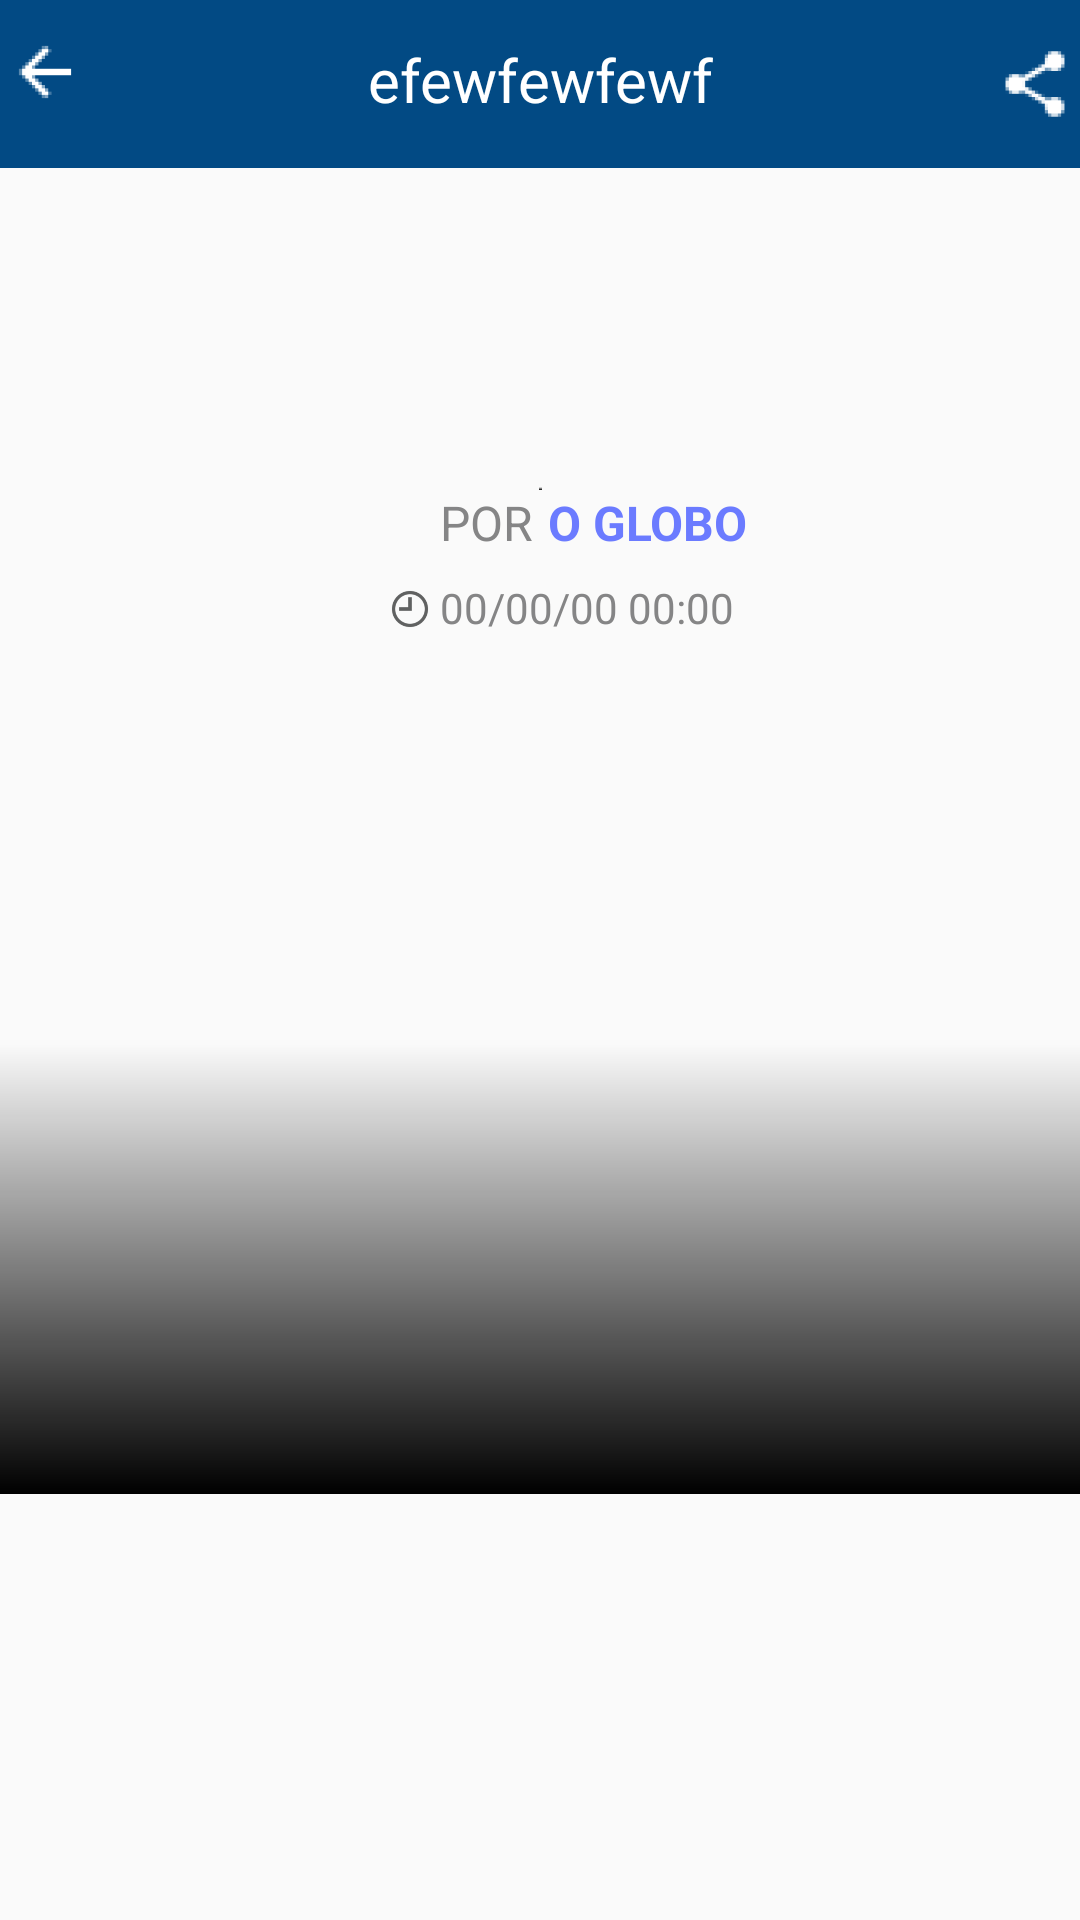

Named icons in this screenshot (1080px x 1920px) and their bounding boxes, Rect(x1, y1, x2, y2):
back: Rect(19, 46, 72, 98)
clock: Rect(392, 591, 428, 627)
share: Rect(1005, 51, 1065, 117)
